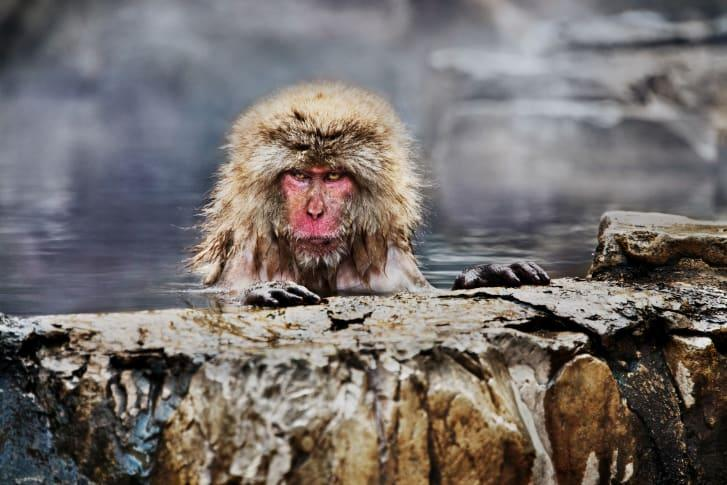animal: (183, 86, 482, 385)
